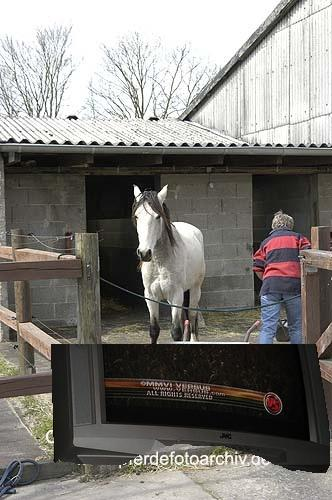tampered: (52, 345, 330, 473)
